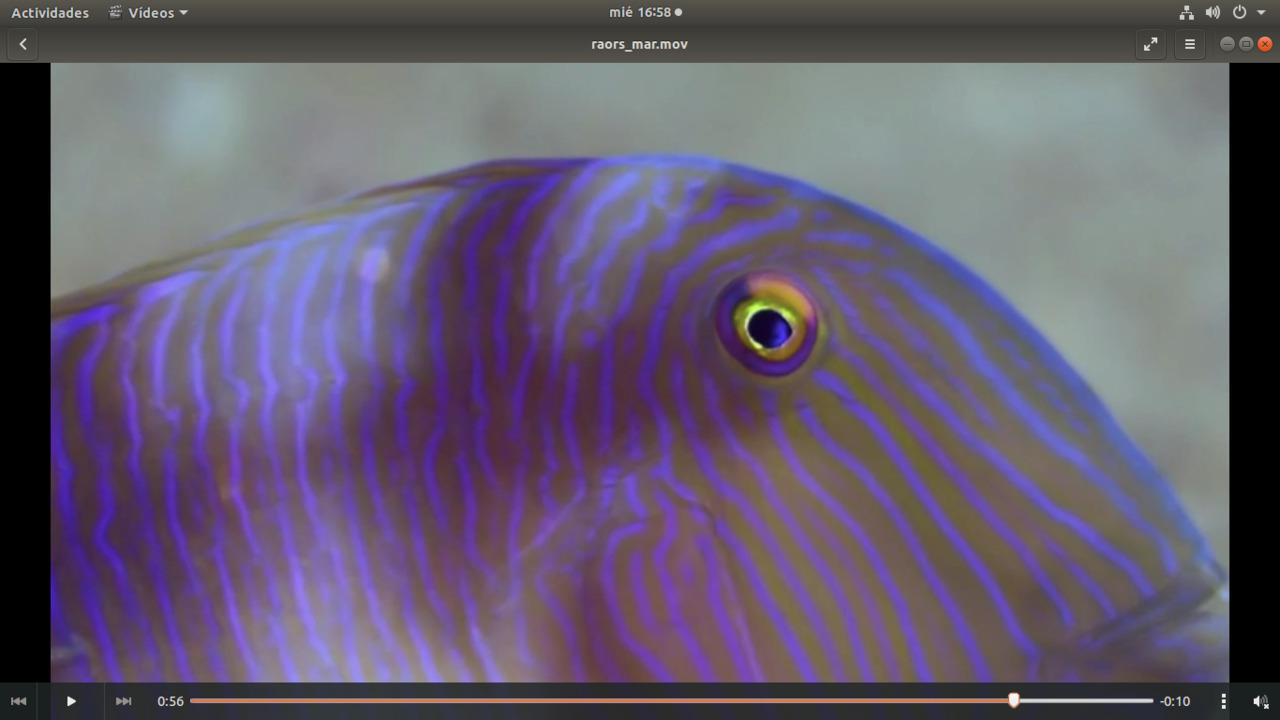raor: (60, 144, 1228, 682)
